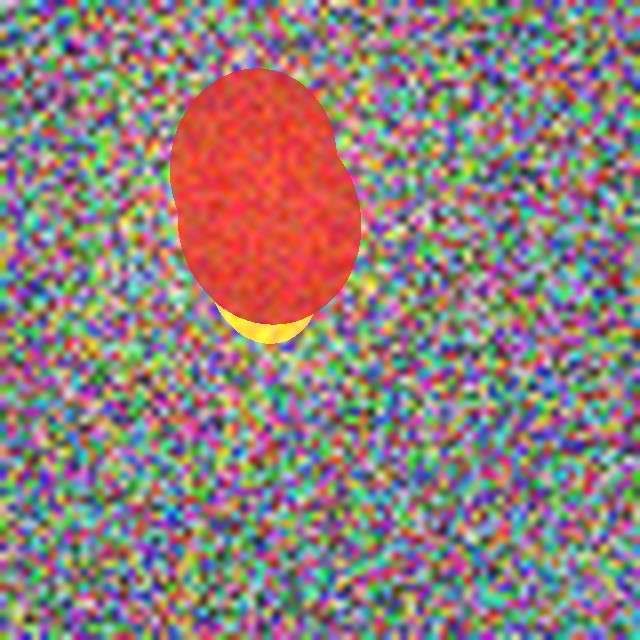fire: (175, 108, 347, 310)
